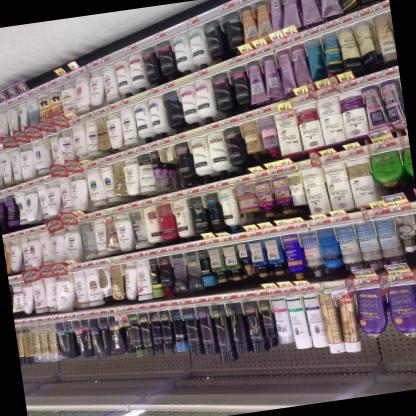empty_space: (157, 145, 181, 193)
